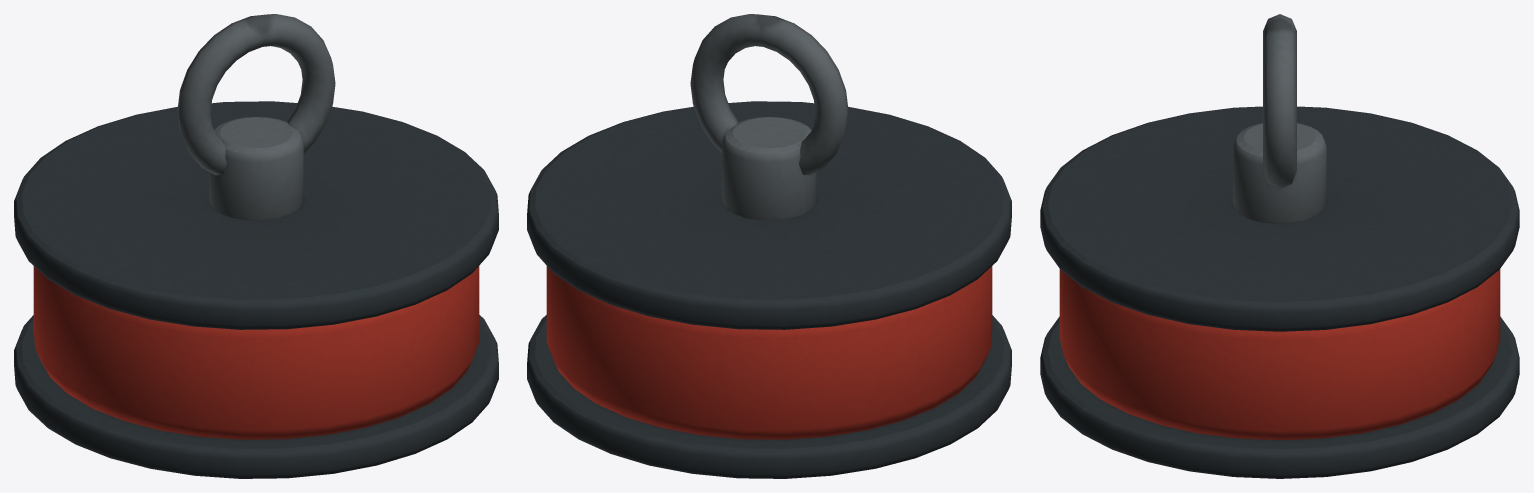
File: 0_mass.obj
3 views of the same model, side by side, from view 1: azimuth 30°, elevation 25°; view 2: azimuth 150°, elevation 25°; view 3: azimuth 270°, elevation 25° (orthographic).
Bounding box in the file's own units: 0.37 × 0.3053 × 0.37.
Materials: 1 (1 with a texture image).
